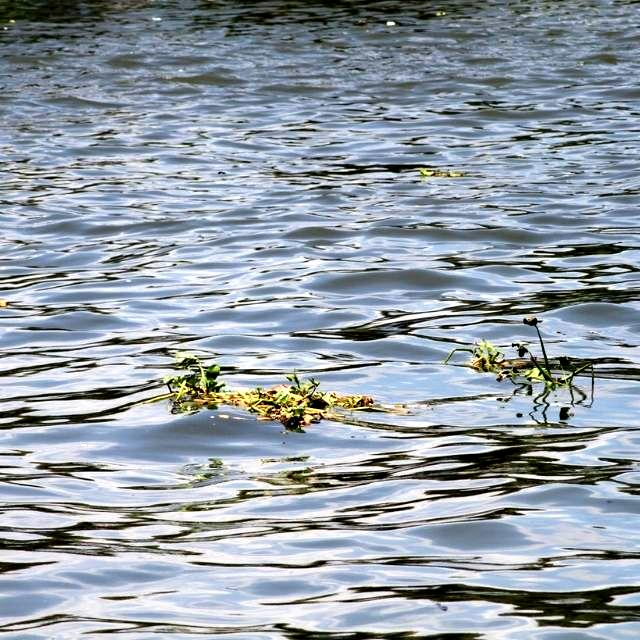water-hyacinth: (139, 364, 402, 421), (500, 318, 597, 405)
